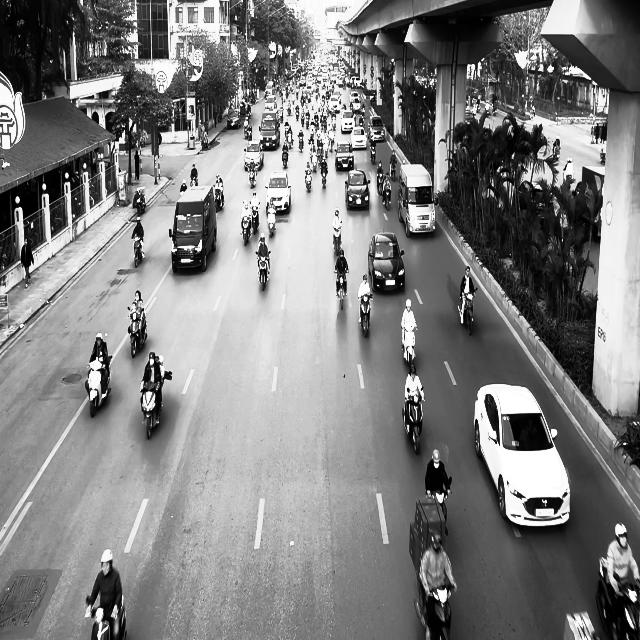car: (473, 383, 571, 528), (368, 232, 405, 292), (265, 169, 291, 214), (344, 169, 371, 210), (244, 139, 264, 171)
motorbike: (595, 556, 640, 640), (140, 371, 172, 439), (85, 594, 126, 640), (84, 355, 112, 418), (402, 386, 424, 454), (428, 477, 452, 535), (126, 306, 148, 358), (458, 288, 477, 335), (401, 324, 417, 368), (358, 294, 372, 338), (334, 267, 348, 310), (256, 250, 270, 291), (132, 234, 144, 268), (240, 213, 252, 246), (134, 189, 146, 215), (266, 206, 276, 237), (250, 204, 260, 233), (332, 225, 342, 253), (214, 186, 224, 212), (247, 163, 257, 188), (370, 140, 376, 163)
truck: (168, 184, 217, 273), (398, 163, 436, 237)
